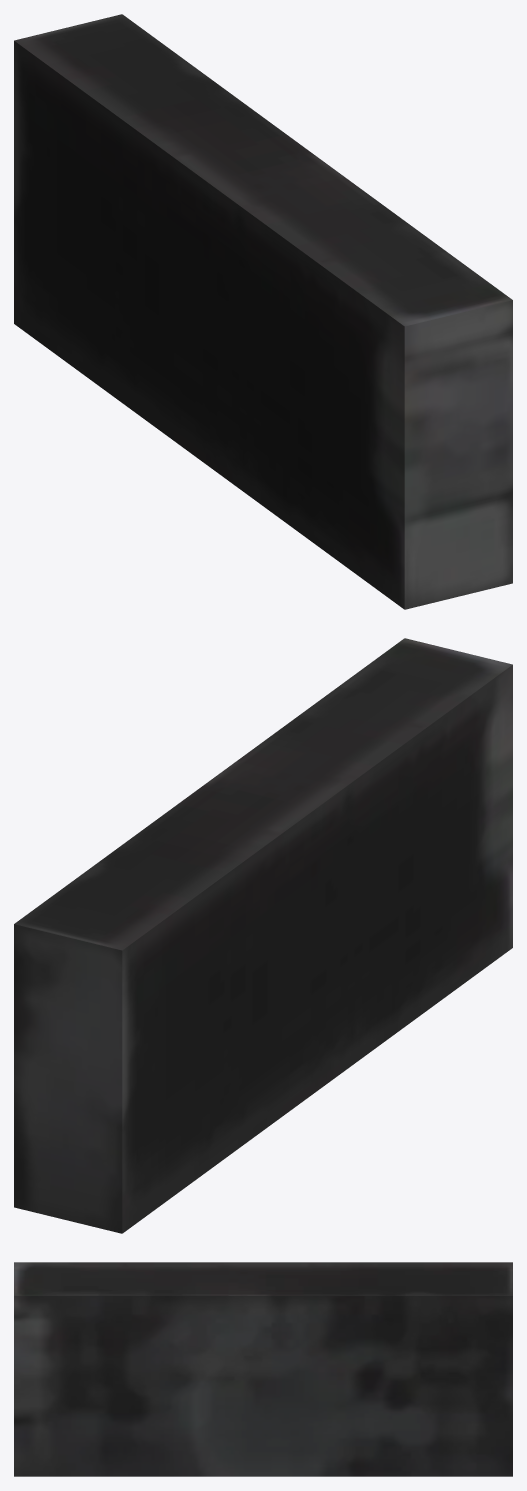
The model's file is mast__left_tilt_cheek.glb.
3 views of the same model, one above another, from view 1: azimuth 30°, elevation 25°; view 2: azimuth 150°, elevation 25°; view 3: azimuth 270°, elevation 25° (orthographic). The views are drawn at different scales.
Visible parts, largest first — view 1: world; view 2: world; view 3: world.
Boxes of the visible parts, x1=… form: world: x1=14, y1=14, x2=512, y2=609; world: x1=14, y1=638, x2=512, y2=1233; world: x1=14, y1=1262, x2=512, y2=1476.
Bounding box in the file's own units: 0.008 × 0.02 × 0.05.
Materials: 1 (1 with a texture image).
